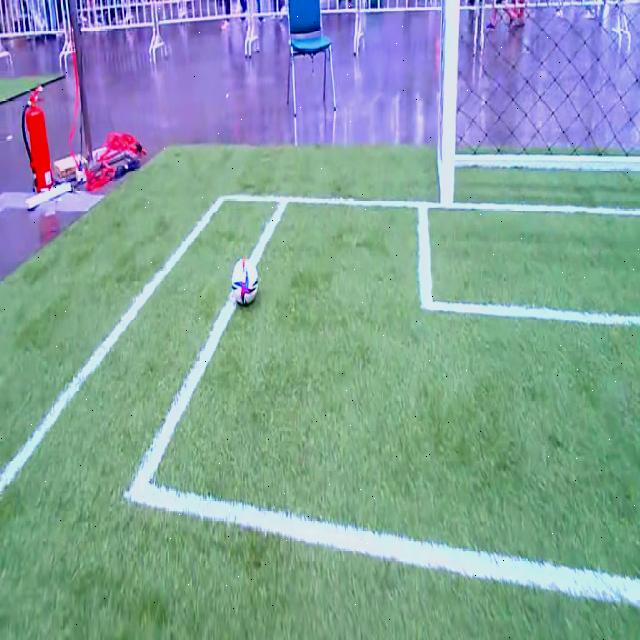ball: (232, 259, 258, 305)
